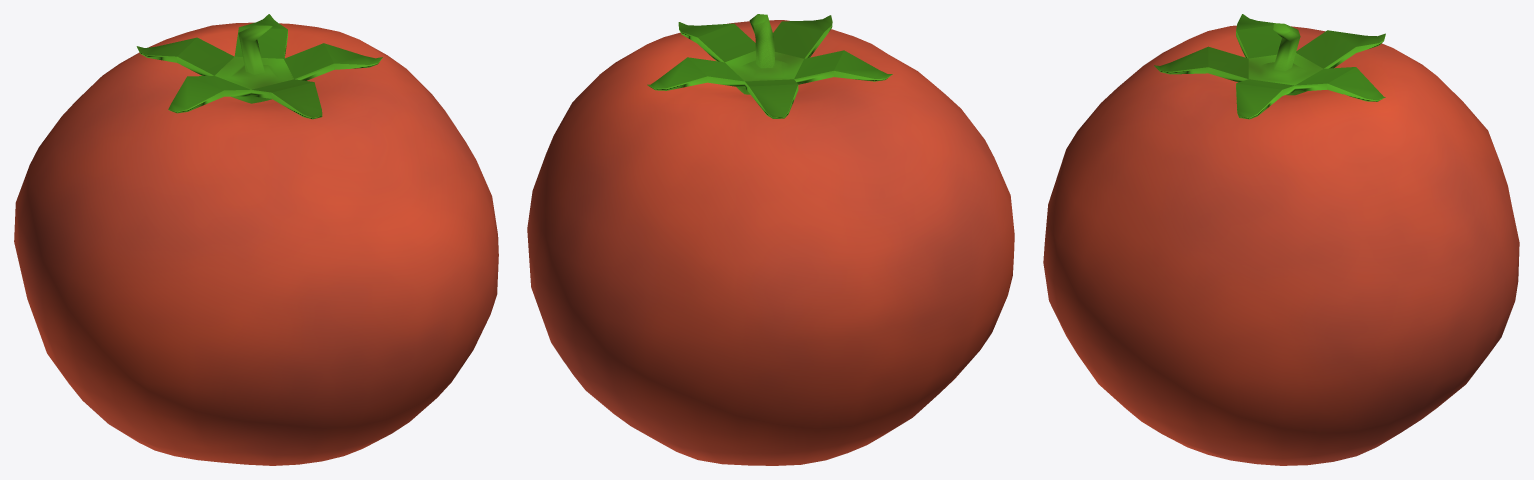
The model's file is Tomato.glb.
The picture shows the model from 3 angles, left to right: view 1: azimuth 30°, elevation 25°; view 2: azimuth 150°, elevation 25°; view 3: azimuth 270°, elevation 25°; orthographic projection.
Visible parts, largest first — view 1: Sphere, Cylinder; view 2: Sphere, Cylinder; view 3: Sphere, Cylinder.
Boxes of the visible parts, box(x1,y1,x2,y2) form: Sphere: box(14, 22, 498, 465); Cylinder: box(136, 14, 382, 119); Sphere: box(527, 20, 1014, 465); Cylinder: box(647, 14, 892, 118); Sphere: box(1043, 25, 1519, 465); Cylinder: box(1154, 14, 1385, 119).
Bounding box in the file's own units: 1.27 × 1.17 × 1.26.
Materials: 2 (2 with a texture image).
